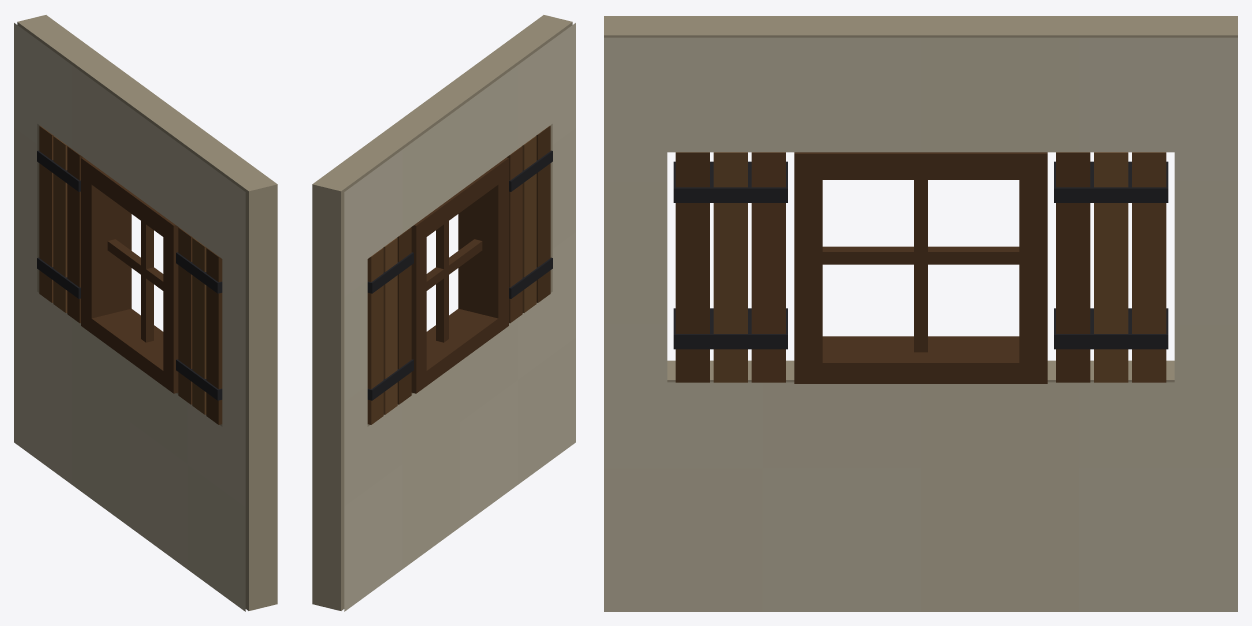
File: wall-plaster-window-shutters.glb
3 renders of one model, left to right at view 1: azimuth 30°, elevation 25°; view 2: azimuth 150°, elevation 25°; view 3: azimuth 270°, elevation 25°, orthographic. The views are drawn at different scales.
Parts seen in each view (by area): view 1: wall-plaster-window-shutters; view 2: wall-plaster-window-shutters; view 3: wall-plaster-window-shutters.
Boxes of the visible parts, x1,y1,x2,y2 form: wall-plaster-window-shutters: [14, 15, 277, 611]; wall-plaster-window-shutters: [312, 15, 575, 611]; wall-plaster-window-shutters: [604, 16, 1237, 611].
Bounding box in the file's own units: 0.1 × 1 × 1.
